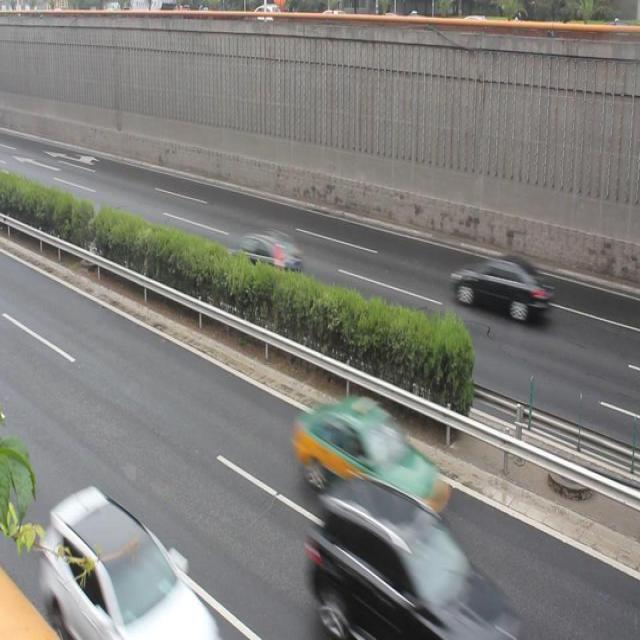car: (306, 479, 509, 640), (41, 489, 214, 640), (295, 390, 449, 517), (450, 251, 549, 325), (226, 231, 302, 292)
